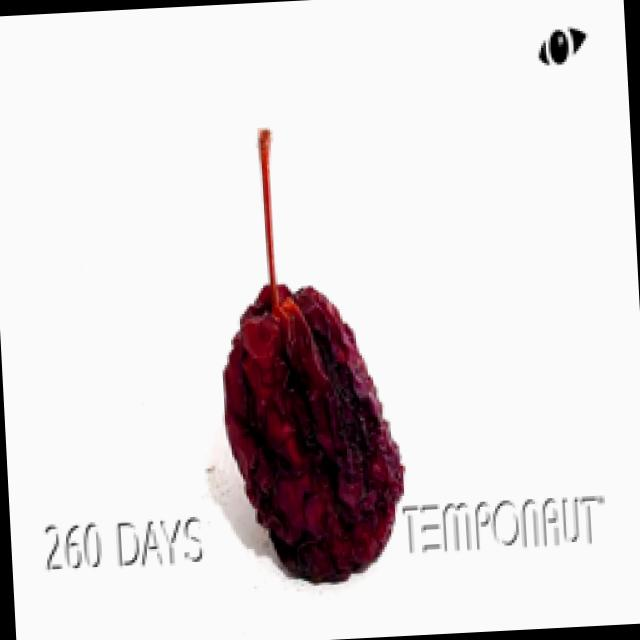Rotten_Apple: (175, 36, 458, 596)
